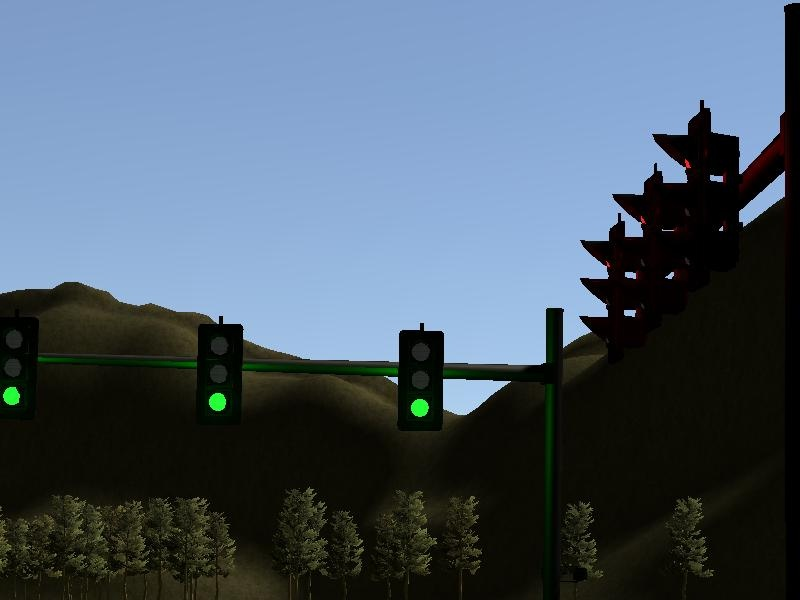Green: (196, 322, 244, 425), (397, 329, 443, 433), (1, 314, 40, 417)
